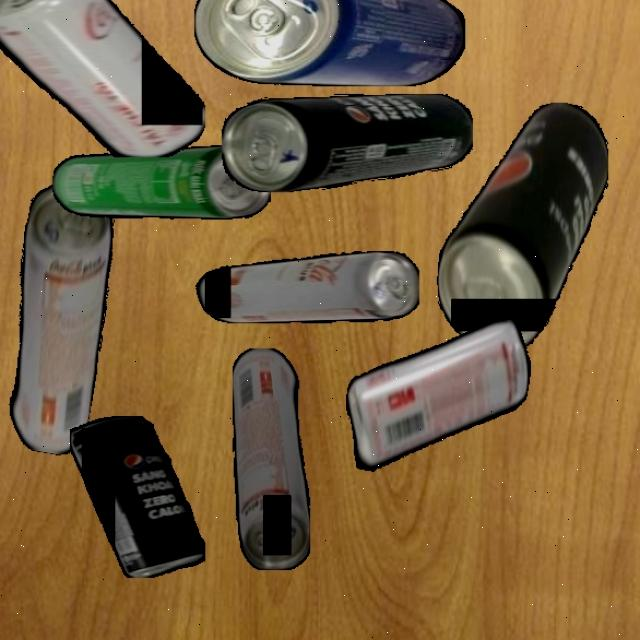debris: (436, 102, 608, 350), (336, 295, 538, 495), (0, 178, 128, 459), (0, 0, 205, 157), (222, 93, 473, 192), (194, 0, 465, 86), (70, 415, 205, 578), (232, 347, 310, 570), (51, 145, 271, 220), (192, 251, 420, 323)
